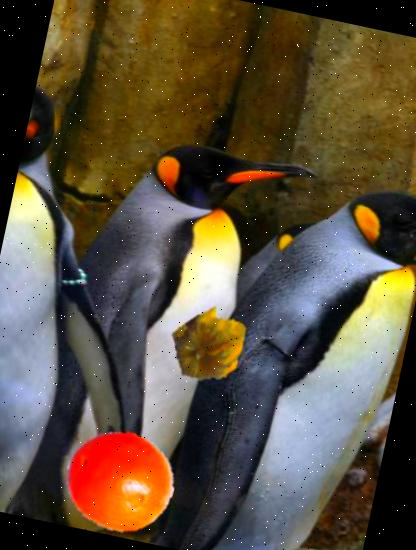Physalis: (162, 298, 260, 396)
Tangelo: (55, 416, 184, 545)
